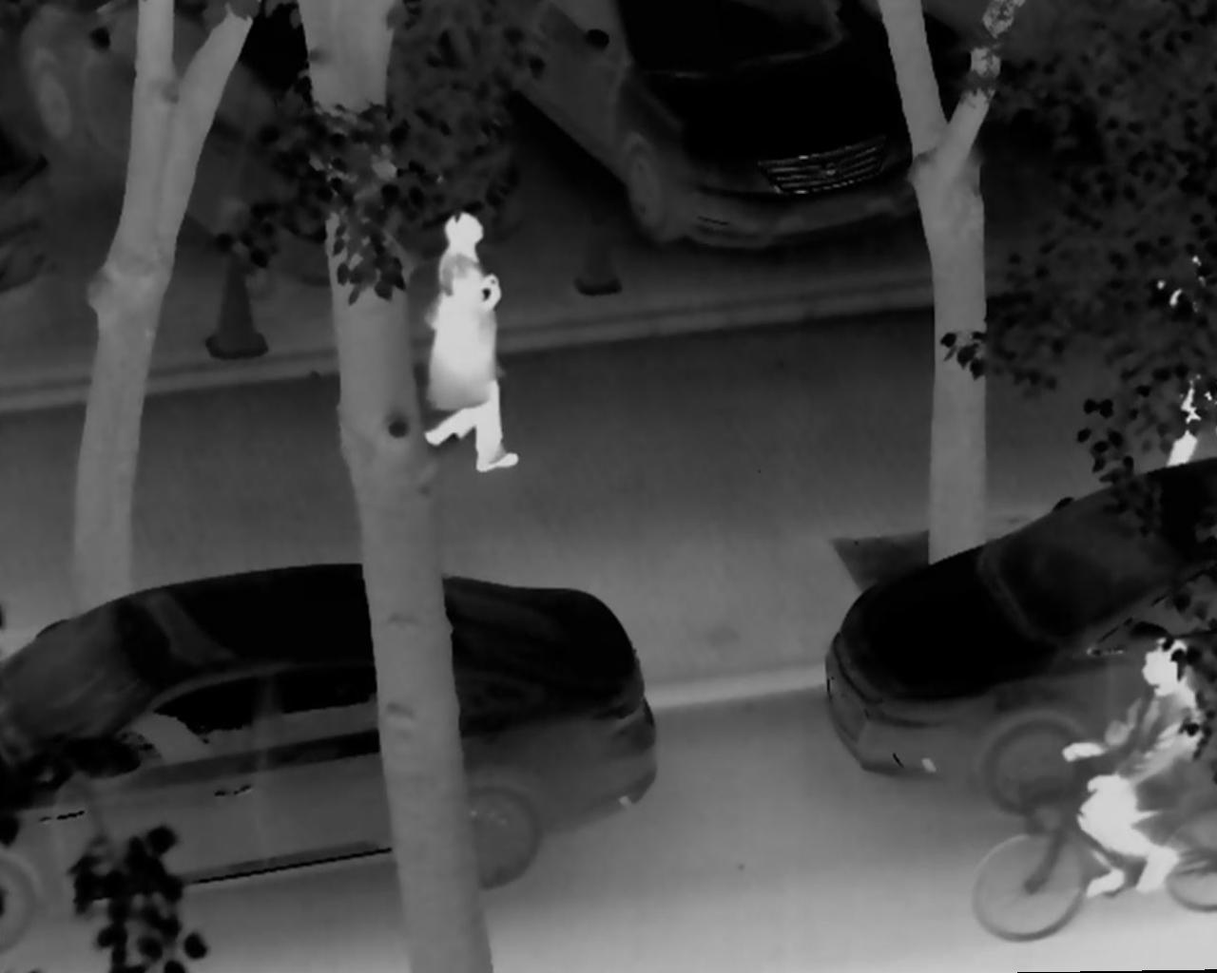person: (1067, 627, 1208, 913), (425, 210, 520, 473), (1149, 235, 1217, 476)
